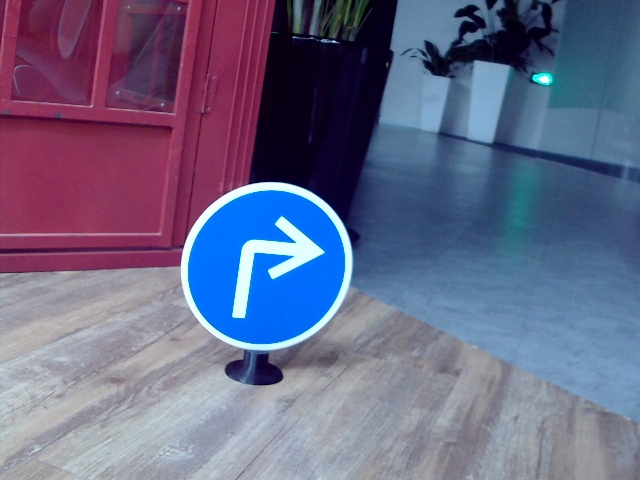turn_right: (224, 210, 322, 321)
